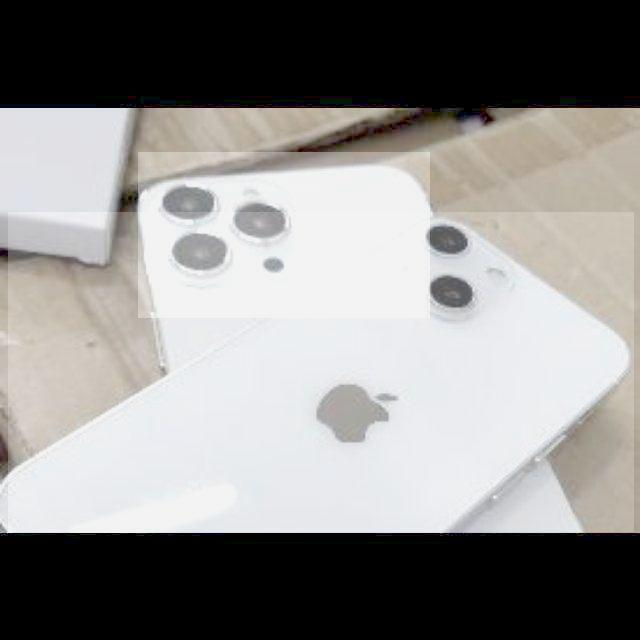lens: (158, 184, 290, 278), (424, 222, 501, 314)
phone: (8, 217, 630, 532), (136, 163, 435, 533)
